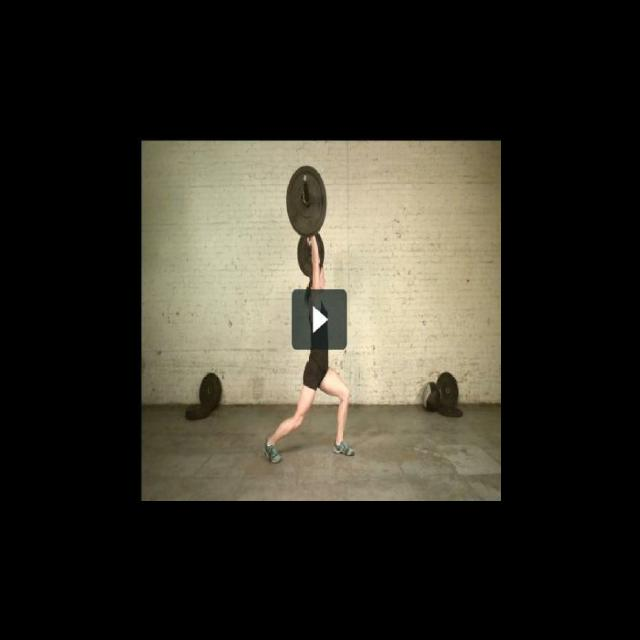barbell: (283, 160, 329, 241)
